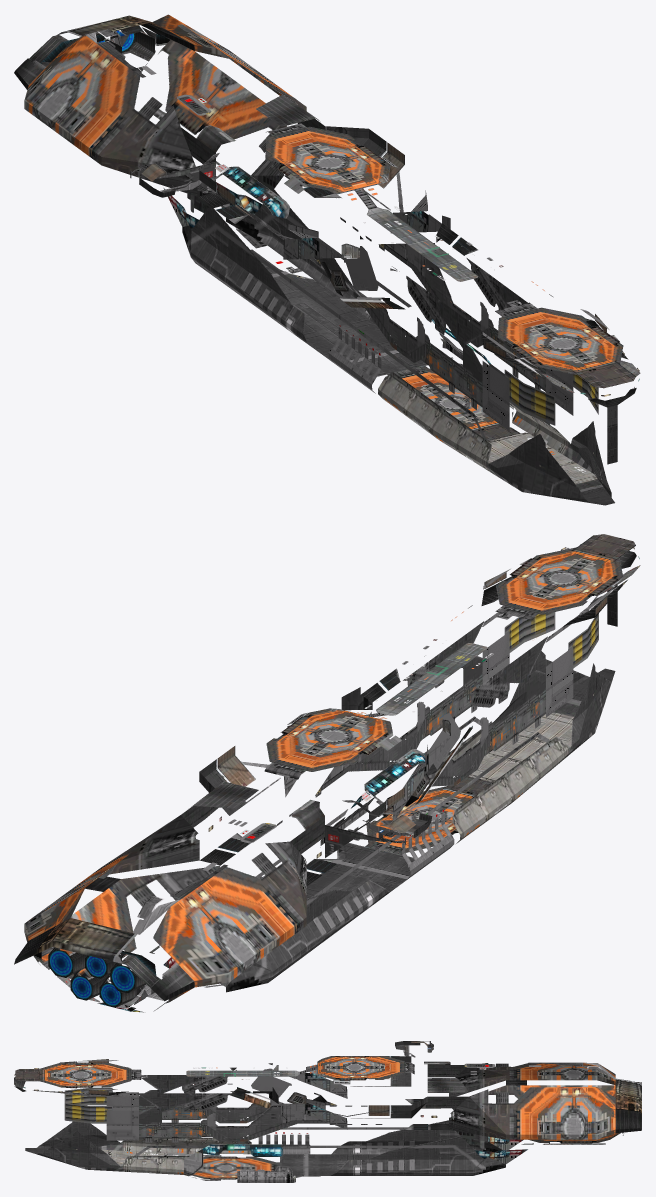
The model's file is LOD0-UVFlip.obj.
3 views of the same model, one above another, from view 1: azimuth 30°, elevation 25°; view 2: azimuth 150°, elevation 25°; view 3: azimuth 270°, elevation 25° (orthographic). The views are drawn at different scales.
Visible parts, largest first — view 1: Hgn_Front, Hgn_Leftover, badge2, badge; view 2: Hgn_Front, Hgn_Leftover, Hgn_Burner, badge2, badge; view 3: Hgn_Front, Hgn_Leftover, badge, badge2.
Part boxes in pixels (x1,y1,x2,y2): Hgn_Front: (24,14,639,505); Hgn_Leftover: (14,15,640,407); badge2: (482,361,509,430); badge: (546,368,573,415); Hgn_Front: (24,534,639,1012); Hgn_Leftover: (14,548,640,1011); Hgn_Burner: (48,949,135,1007); badge2: (546,647,573,717); badge: (482,631,509,683); Hgn_Front: (14,1041,620,1182); Hgn_Leftover: (14,1063,641,1135); badge: (106,1110,138,1140); badge2: (106,1092,138,1110).
Bounding box in the file's own units: 104 × 68.23 × 397.
